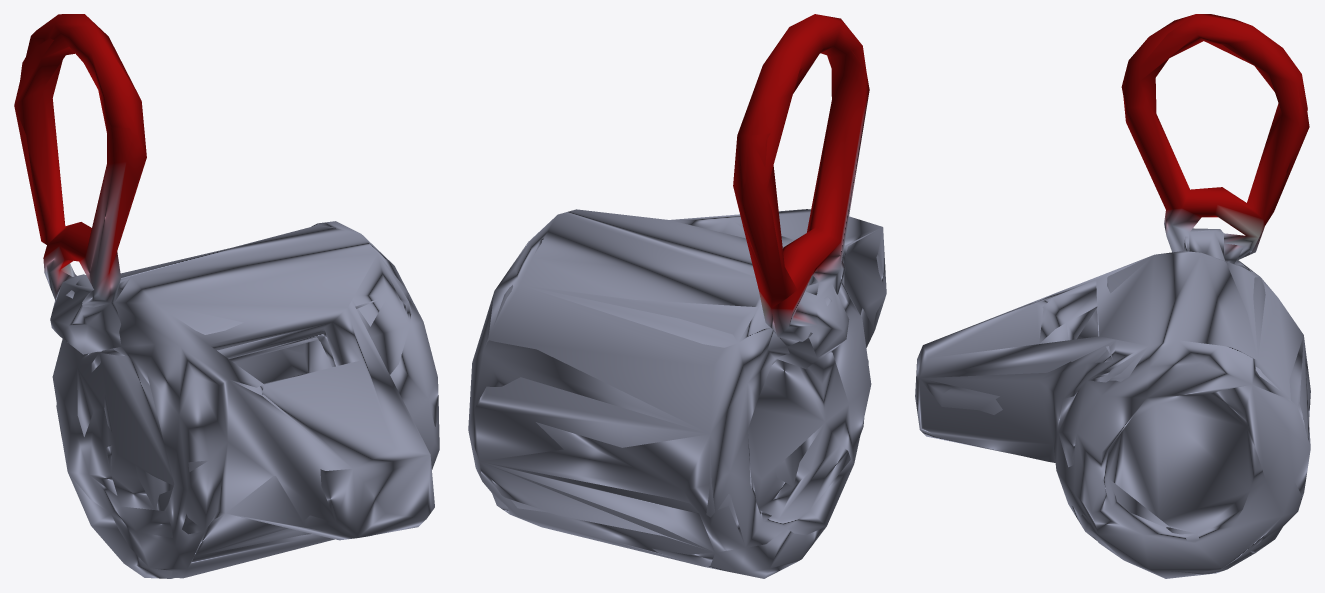
Rendered from gen3d-whistle-lod1.glb.
The picture shows the model from 3 angles, left to right: view 1: azimuth 30°, elevation 25°; view 2: azimuth 150°, elevation 25°; view 3: azimuth 270°, elevation 25°; orthographic projection. The views are drawn at different scales.
Visible parts, largest first — view 1: part_0; view 2: part_0; view 3: part_0.
Boxes of the visible parts, x1,y1,x2,y2 form: part_0: (14, 14, 439, 578); part_0: (468, 14, 886, 578); part_0: (915, 14, 1310, 578).
Bounding box in the file's own units: 0.5889 × 0.9976 × 0.7789.
